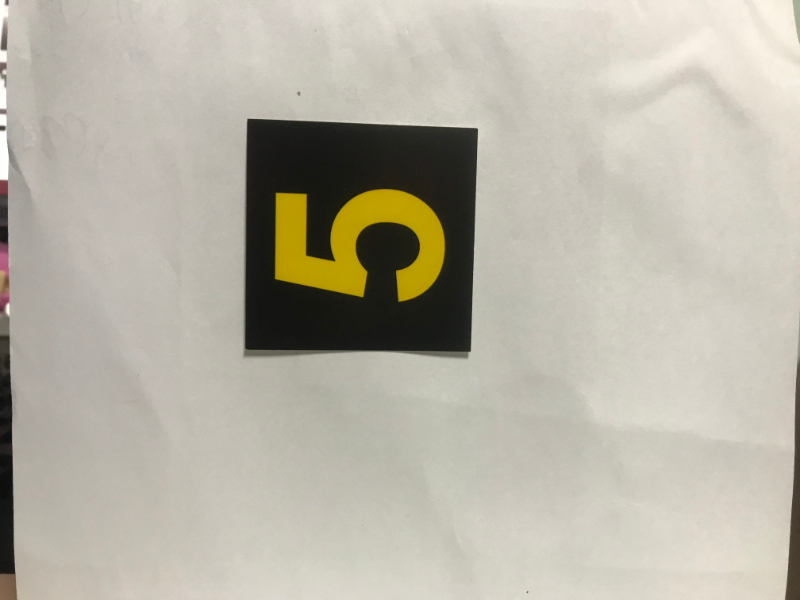Five-10: (252, 129, 468, 347)
